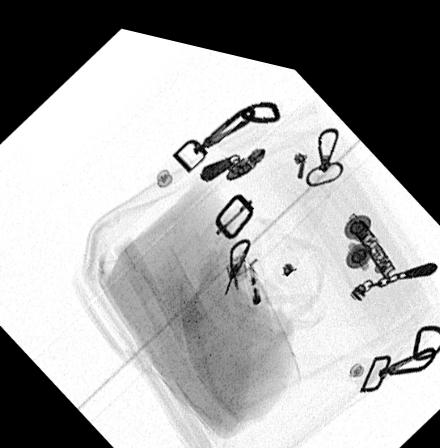Lighter: (225, 239, 275, 339)
